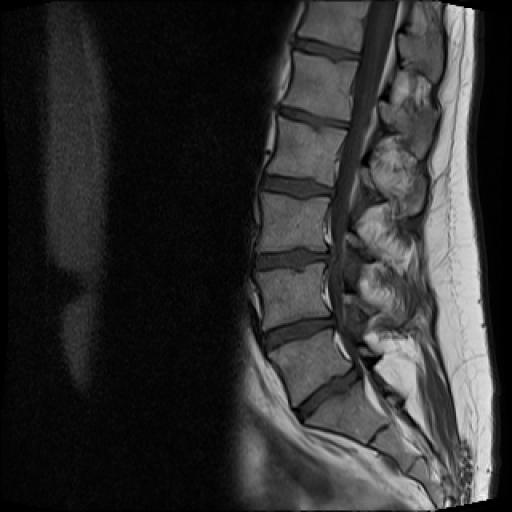L1: (282, 52, 357, 120)
L2: (267, 115, 346, 186)
L3: (258, 191, 329, 252)
L4: (256, 263, 329, 328)
L5: (269, 329, 351, 406)
S1: (304, 380, 390, 444)
